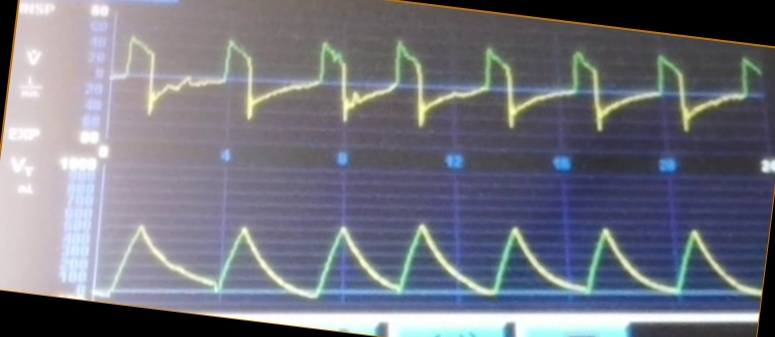Accumulation Flow: (113, 30, 763, 148)
Volume: (101, 202, 759, 302)
